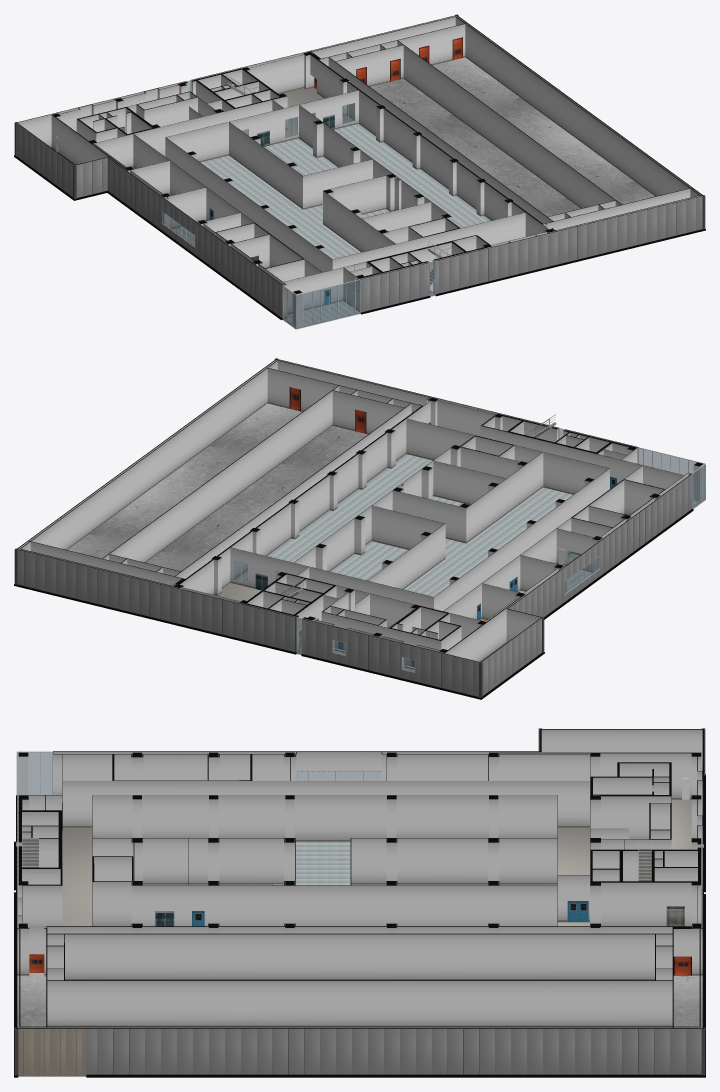
The picture shows the model from 3 angles, top to bottom: view 1: azimuth 30°, elevation 25°; view 2: azimuth 150°, elevation 25°; view 3: azimuth 270°, elevation 25°; orthographic projection. The views are drawn at different scales.
Parts seen in each view (by area): view 1: Rectangle1236, Line1232, 4외유리1, W&FF-4F, Box086, Line1230, Line781; view 2: Rectangle1236, Line1232, 4외유리1, W&FF-4F, Box086; view 3: Rectangle1236, Line1232, Line781, W&FF-4F, 4외유리1, Box086, Line1230, Railing072.
Part boxes in pixels (<box>): Rectangle1236: <box>16,15,703,327</box>; Line1232: <box>200,57,654,259</box>; 4외유리1: <box>162,80,435,329</box>; W&FF-4F: <box>14,14,705,320</box>; Box086: <box>119,37,462,305</box>; Line1230: <box>169,194,434,328</box>; Line781: <box>279,87,354,137</box>; Rectangle1236: <box>16,359,703,696</box>; Line1232: <box>67,403,572,596</box>; 4외유리1: <box>234,428,705,672</box>; W&FF-4F: <box>14,358,693,699</box>; Box086: <box>255,387,616,669</box>; Rectangle1236: <box>16,729,703,1076</box>; Line1232: <box>17,841,702,1027</box>; Line781: <box>29,827,691,956</box>; W&FF-4F: <box>14,728,705,1077</box>; 4외유리1: <box>16,751,703,847</box>; Box086: <box>29,856,691,975</box>; Line1230: <box>17,798,702,928</box>; Railing072: <box>22,827,651,881</box>.
Size of the model in its own units: 67.25 by 7.07 by 65.25.
27 materials, 22 textured.
